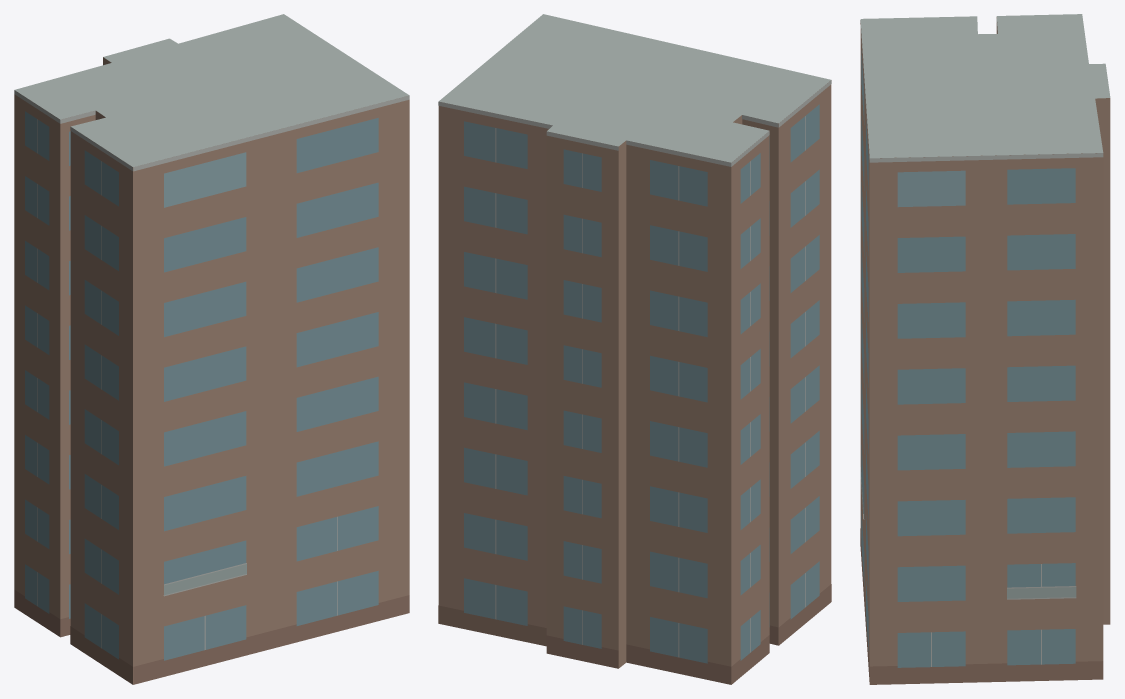
File: survey-upis-32869979.glb
3 renders of one model, left to right at view 1: azimuth 30°, elevation 25°; view 2: azimuth 150°, elevation 25°; view 3: azimuth 270°, elevation 25°, orthographic.
Parts seen in each view (by area): view 1: survey-upis-32869979.tmp; view 2: survey-upis-32869979.tmp; view 3: survey-upis-32869979.tmp.
Part boxes in pixels (<box>): survey-upis-32869979.tmp: <box>14,14,409,684</box>; survey-upis-32869979.tmp: <box>438,14,831,684</box>; survey-upis-32869979.tmp: <box>860,14,1110,684</box>.
Size of the model in its own units: 17.53 by 29.8 by 12.83.
